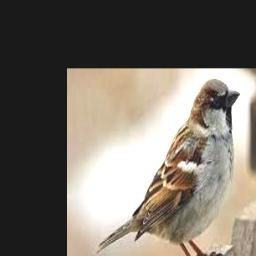Sparrow: (97, 79, 240, 256)
